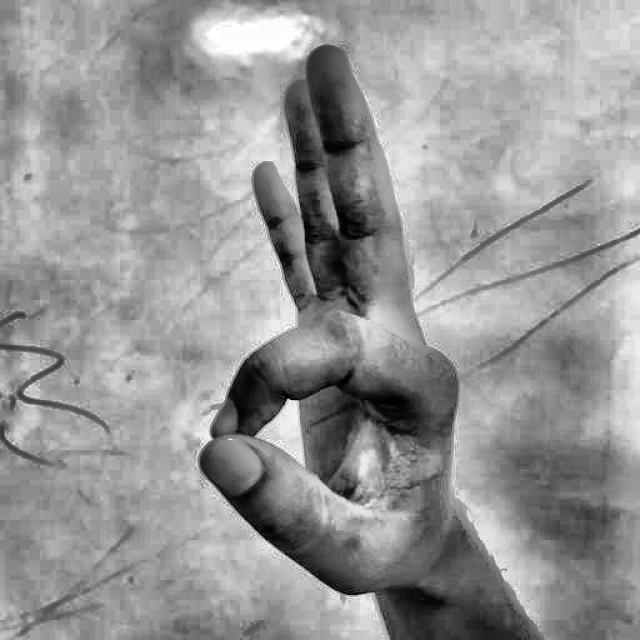Ca: (152, 28, 552, 640)
